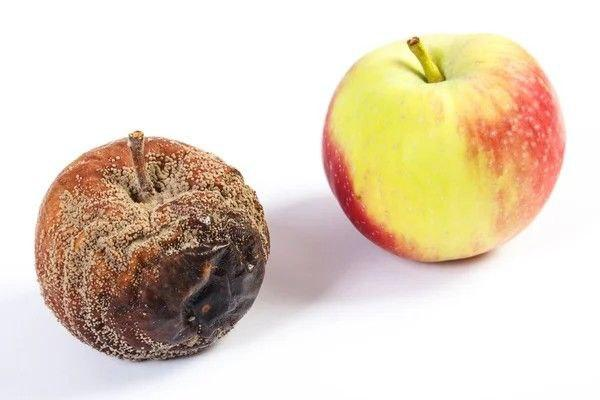Apple: (326, 33, 564, 264), (34, 140, 269, 361)
